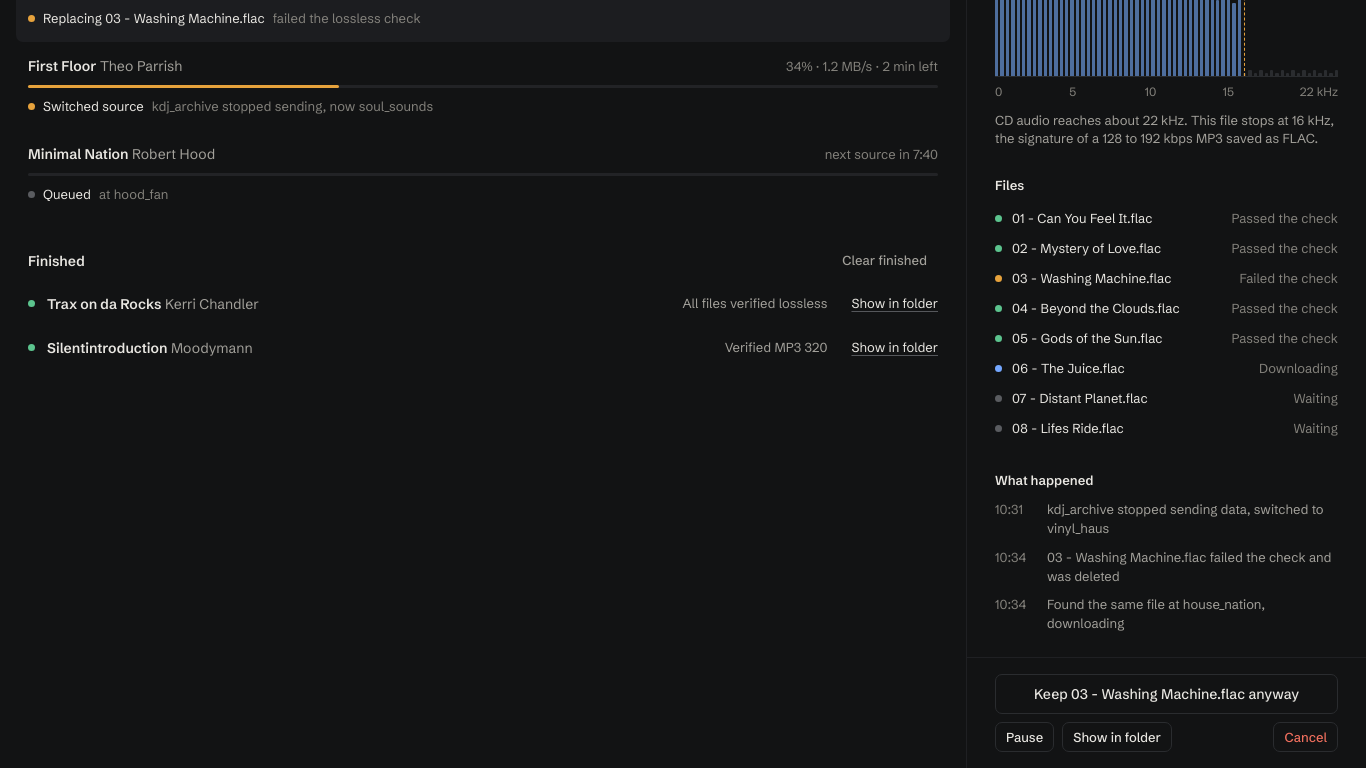
Scenario: JobDetail › keeps a rejected file when asked and shows it as kept
(page scrolled)
Click the button "Keep 03 - Washing Machine.flac anyway": (1166, 694) x1=995 y1=674 x2=1338 y2=714
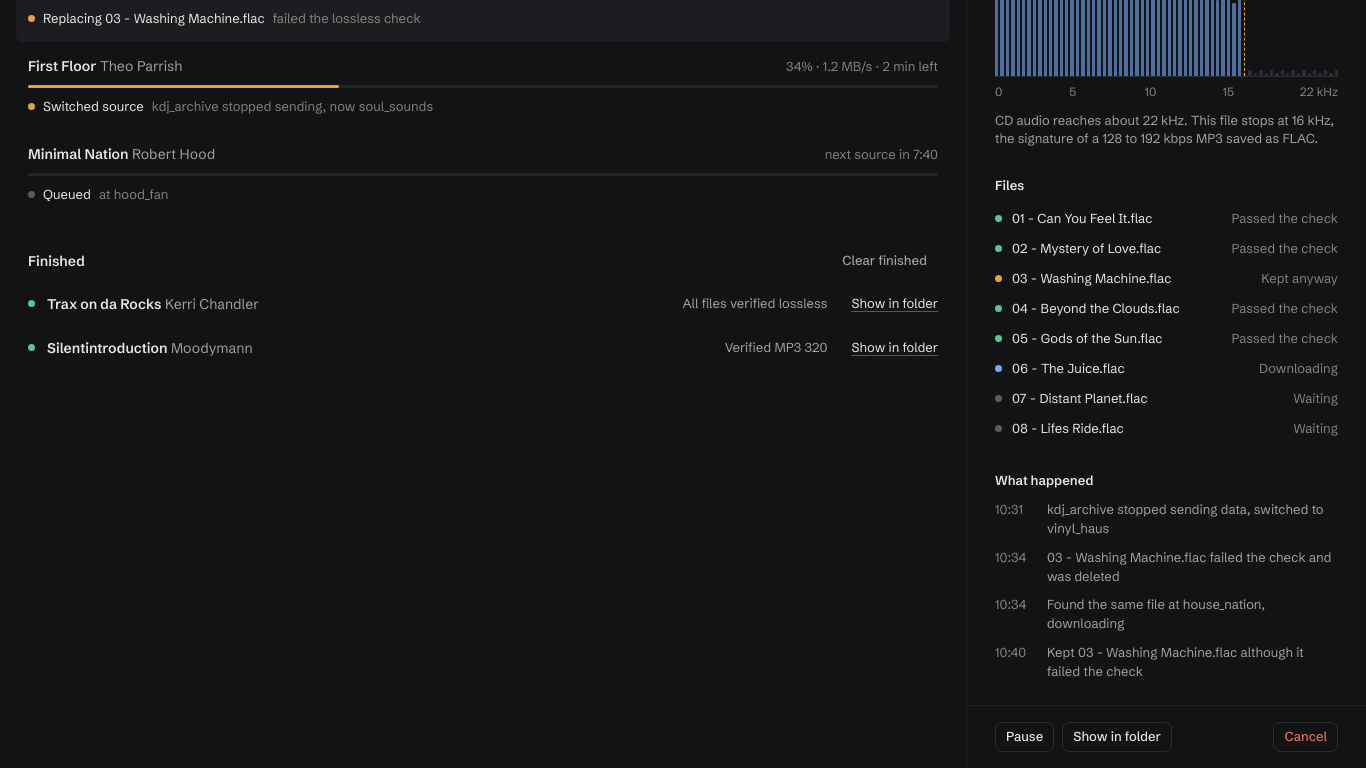
expect the text "Kept anyway" is shown: met, box x1=1261 y1=269 x2=1338 y2=288
